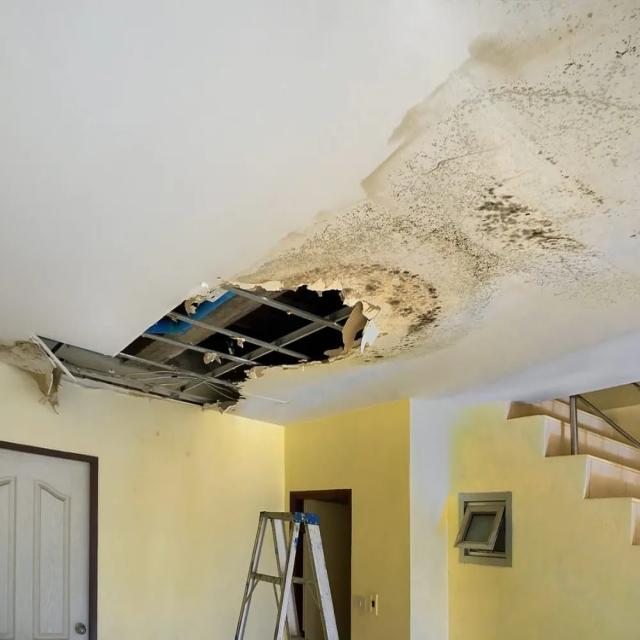damaged_roof: (33, 240, 462, 414)
